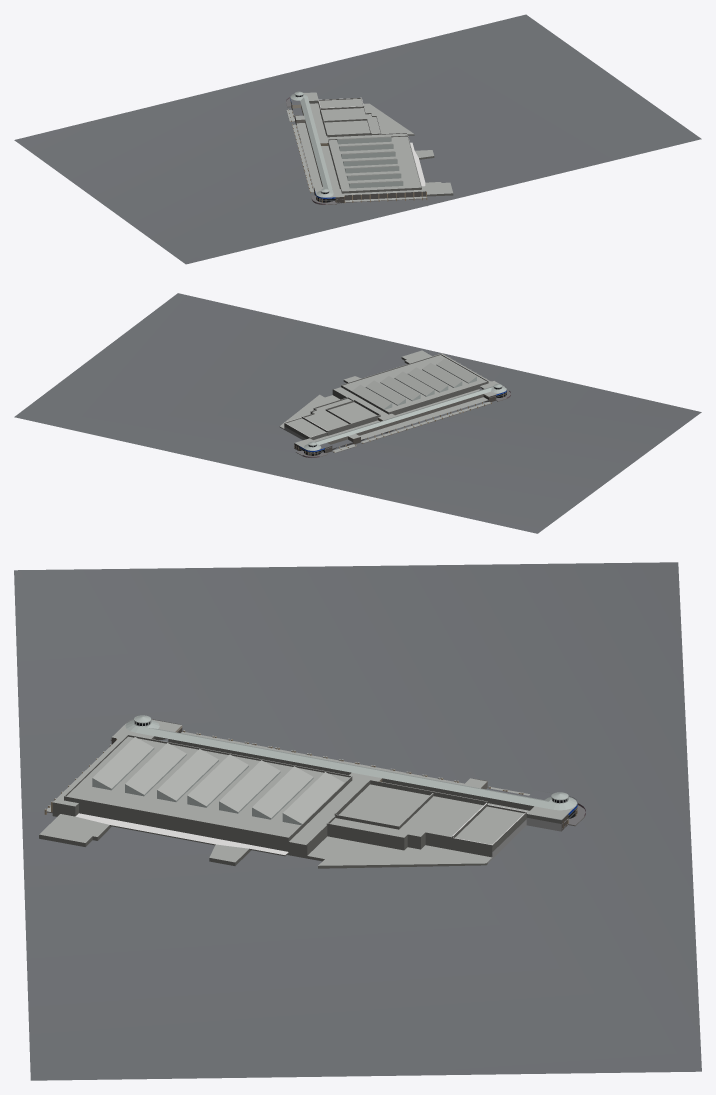
Rendered from the-chattanooga-convention-center.glb.
3 views of the same model, one above another, from view 1: azimuth 30°, elevation 25°; view 2: azimuth 150°, elevation 25°; view 3: azimuth 270°, elevation 25° (orthographic). The views are drawn at different scales.
Parts seen in each view (by area): view 1: LOD0; view 2: LOD0; view 3: LOD0.
Part boxes in pixels (<box>): LOD0: <box>14,14,701,264</box>; LOD0: <box>14,293,701,533</box>; LOD0: <box>14,562,701,1080</box>.
Size of what is drawn, in the model's own units: 632 by 19.37 by 364.
3 materials, 3 textured.
